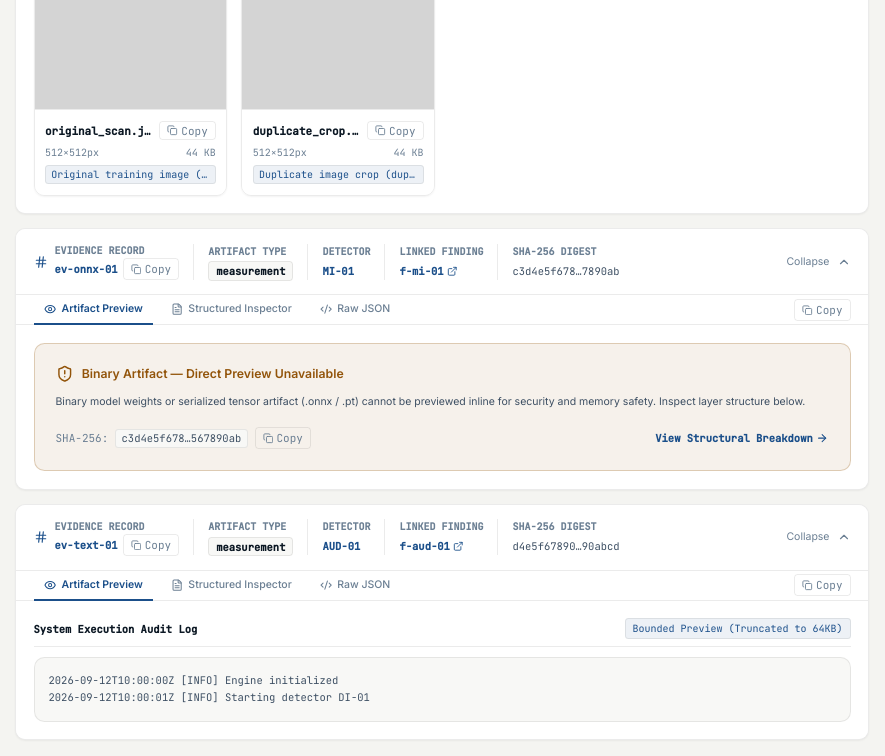
Evidence Preview Component › switches to Structural Breakdown tab when button is clicked on unsupported card
(page scrolled)
Expected: the text "Binary Artifact — Direct Preview Unavailable" is shown, [82,365,344,382]
Click the button "View Structural Breakdown": (742, 438) [655,431,829,445]
(page scrolled)
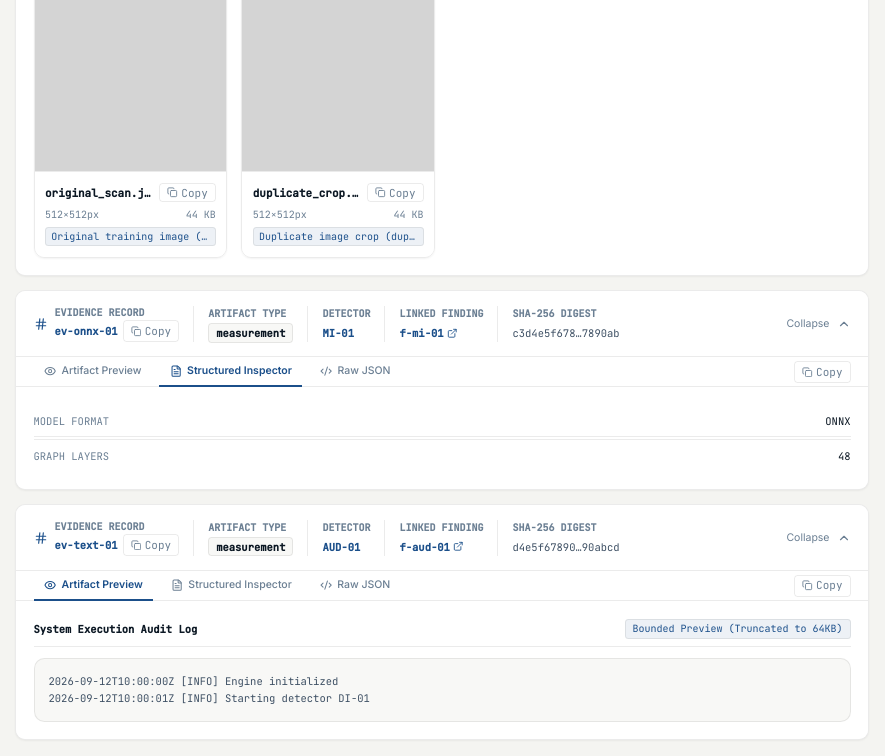
Result: the text "graph layers" is shown at [34,449,109,463]
Result: the text "48" is shown at [838,449,850,463]
